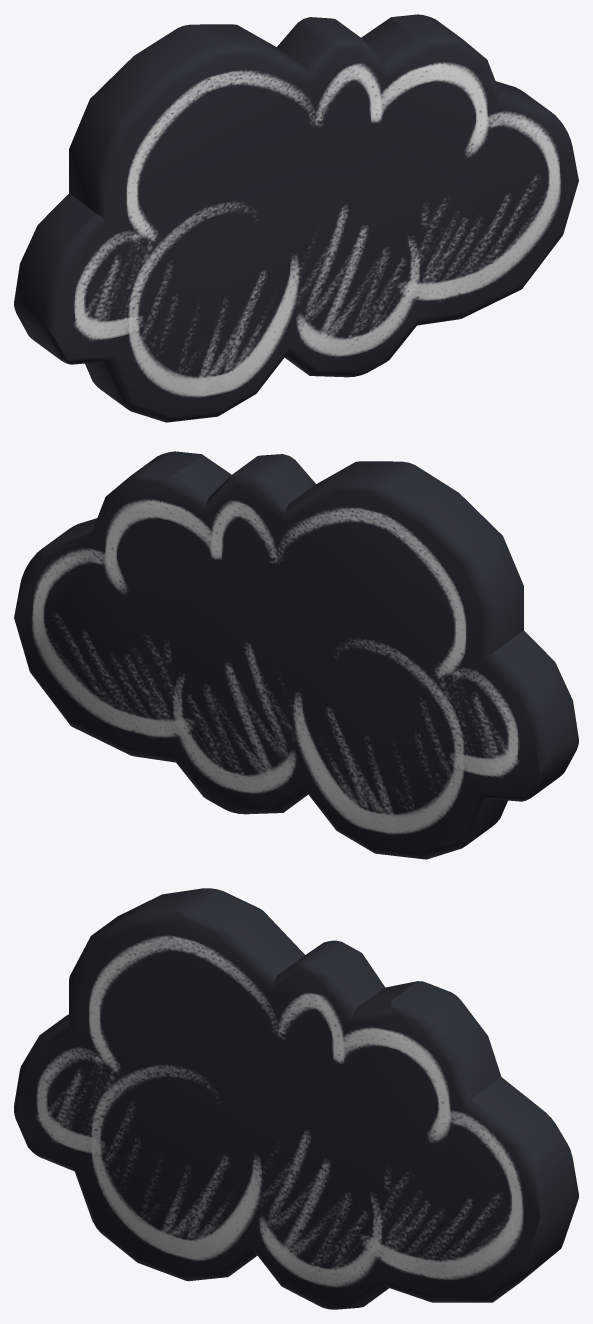
File: Cloud2.fbx
3 renders of one model, top to bottom at view 1: azimuth 30°, elevation 25°; view 2: azimuth 150°, elevation 25°; view 3: azimuth 330°, elevation 25°, orthographic.
Parts seen in each view (by area): view 1: m_Cloud2; view 2: m_Cloud2; view 3: m_Cloud2.
Part boxes in pixels (x1,y1,x2,y2): m_Cloud2: [14, 14, 578, 422]; m_Cloud2: [14, 451, 578, 859]; m_Cloud2: [14, 888, 578, 1309].
Bounding box in the file's own units: 0.8236 × 0.5463 × 0.1.
